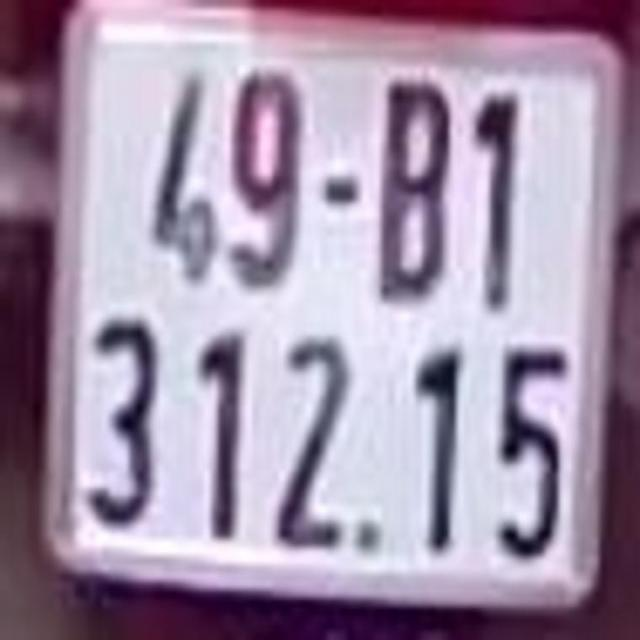1: (401, 338, 478, 561), (466, 70, 529, 310), (192, 321, 256, 546)
2: (274, 326, 352, 554)
3: (86, 314, 164, 529)
4: (146, 78, 219, 290)
5: (494, 336, 574, 562)
9: (225, 64, 305, 290)
B: (379, 61, 455, 302)
